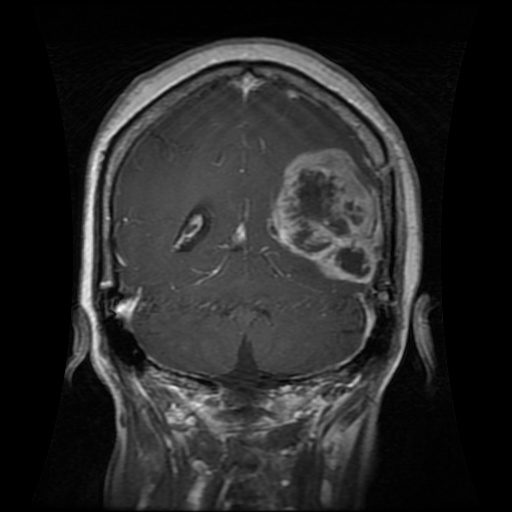glioma: (266, 146, 384, 283)
